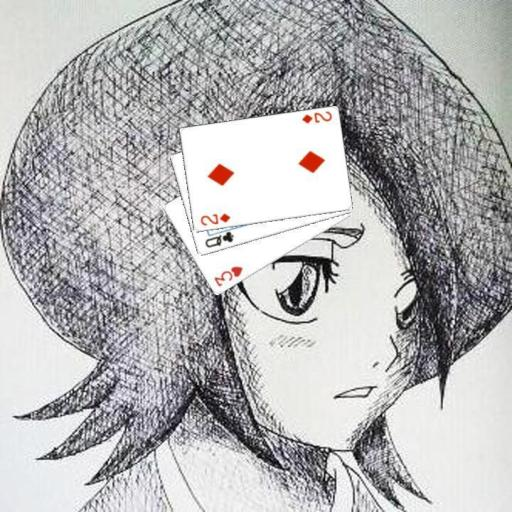card-corner: (210, 263, 244, 288), (202, 228, 235, 250), (197, 210, 231, 228), (298, 108, 332, 125)
